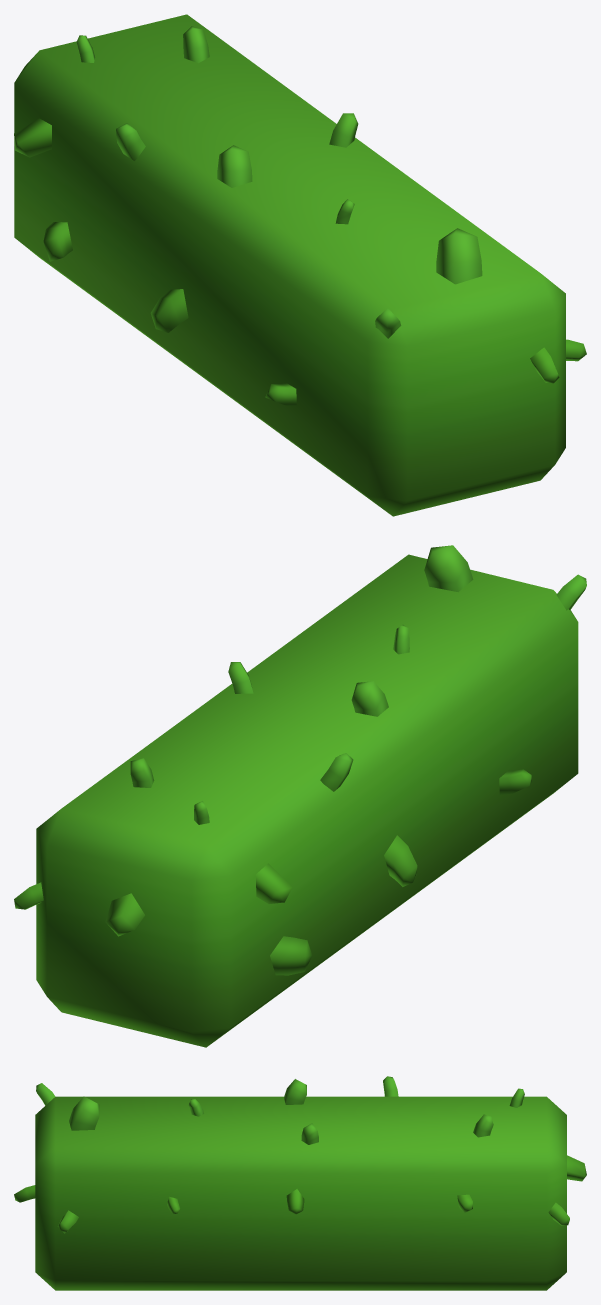
File: Bush_1_C_1.fbx
3 views of the same model, one above another, from view 1: azimuth 30°, elevation 25°; view 2: azimuth 150°, elevation 25°; view 3: azimuth 270°, elevation 25° (orthographic). The views are drawn at different scales.
Visible parts, largest first — view 1: Bush_1_C_1; view 2: Bush_1_C_1; view 3: Bush_1_C_1.
Part boxes in pixels (box(x1,y1,x2,y2)): Bush_1_C_1: box(14, 14, 586, 516); Bush_1_C_1: box(14, 545, 586, 1047); Bush_1_C_1: box(14, 1076, 586, 1290).
Bounding box in the file's own units: 79.36 × 73.97 × 223.
